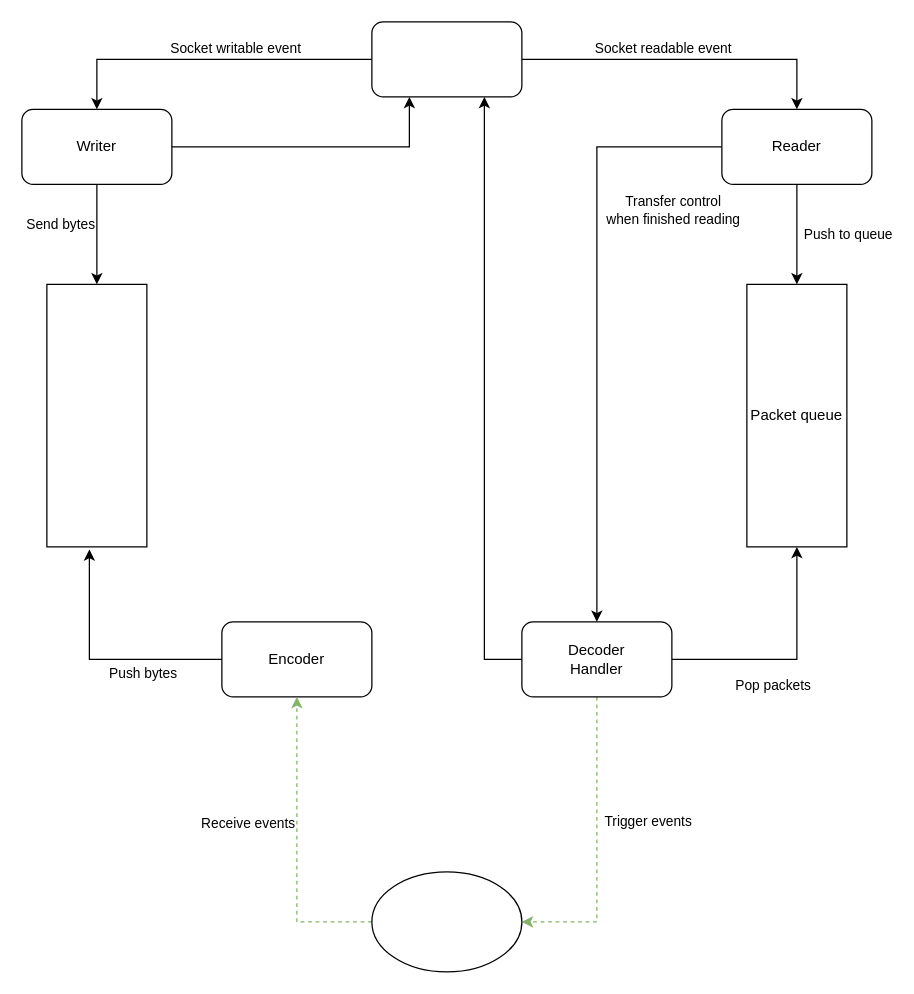
Image size: 914x994. Some labels were removed from this diagram. Here are the shapes that lost their labels. From the top down, the box of each, then its label:
(371, 21, 522, 97): EPOLL
(46, 283, 147, 547): Byte queue
(371, 871, 522, 972): MAIN EVENT BUS
